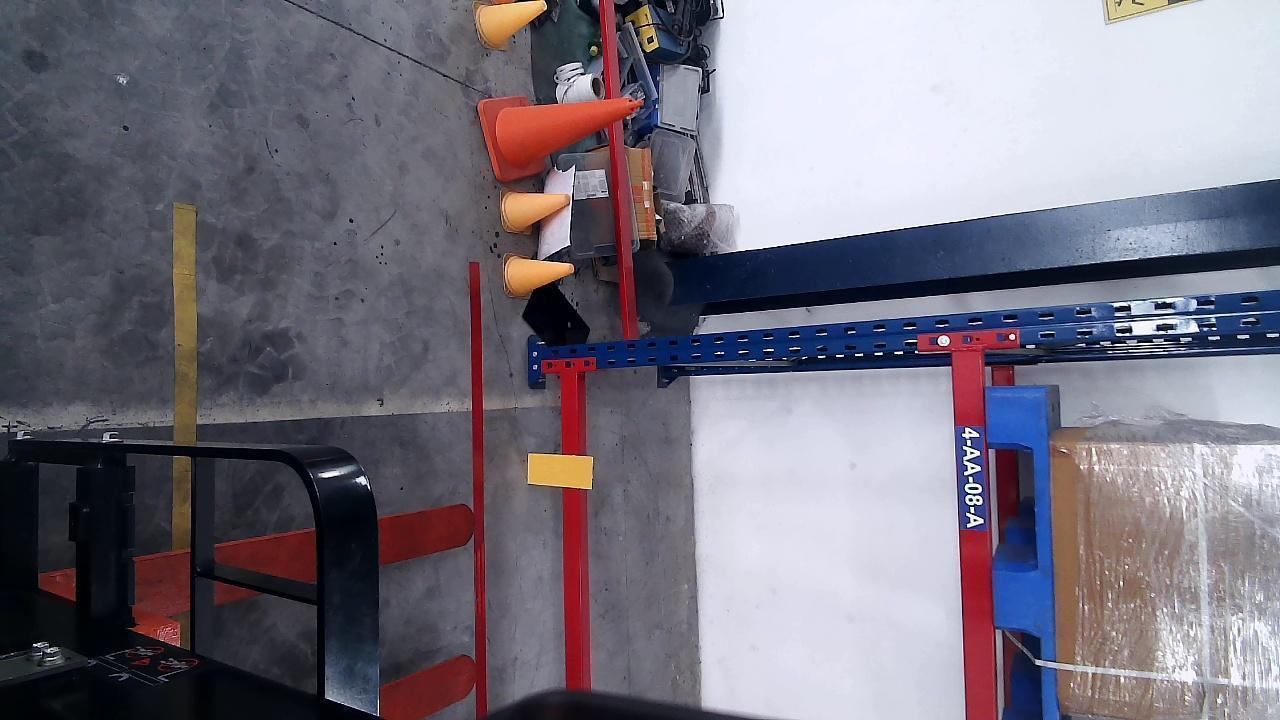red_line: (469, 262, 491, 710)
yellow_line: (170, 201, 199, 546)
